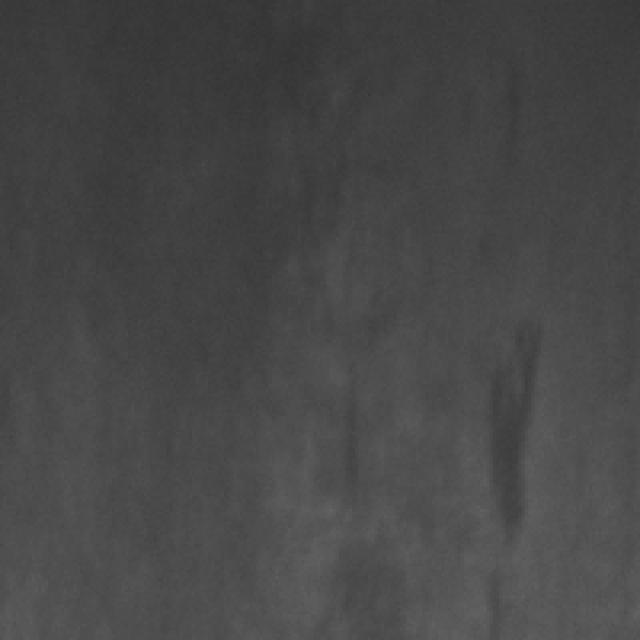inclusion: (478, 316, 542, 540), (324, 534, 436, 640), (342, 356, 372, 492), (491, 65, 533, 157)
